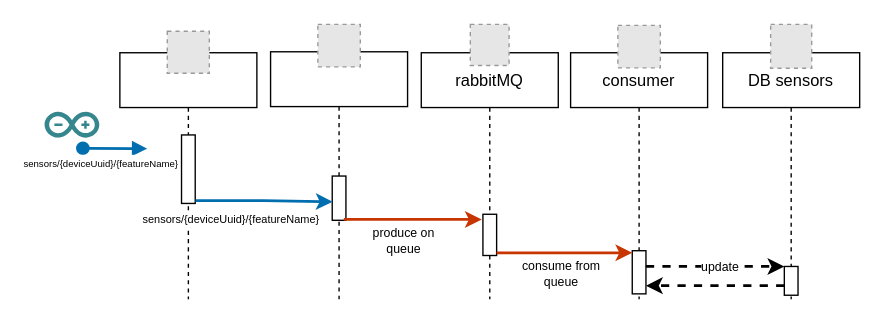
Some shapes in this 885 by 323 pixel diagram are drawn without their labels. Grey dashed boxes stand in for pictures. Here are the shapes that lost their labels. From the top down, the box of each, then its label:
(119, 51, 257, 299): mosquitto
(269, 50, 408, 299): producer
